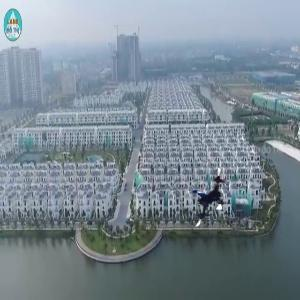drone: (166, 162, 237, 233)
